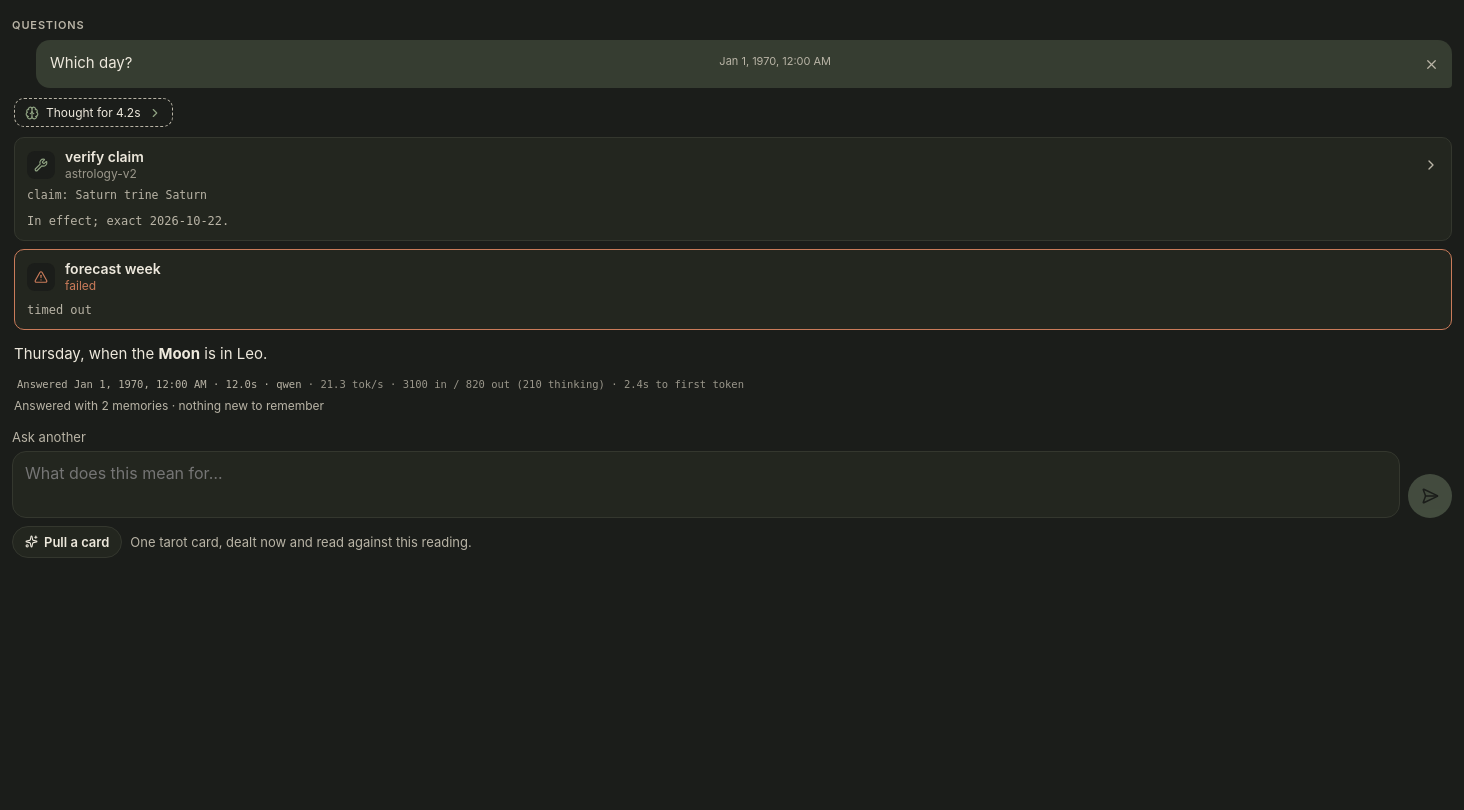
Test: FollowUps › shows the questions asked so far with their answers
Expected: the text "Which day?" is shown, [50,50,132,74]
Expected: the text "Moon" is shown, [158,344,200,363]
Click the button "Thought for 4.2s".
click(93, 112)  # box [14,98,172,127]
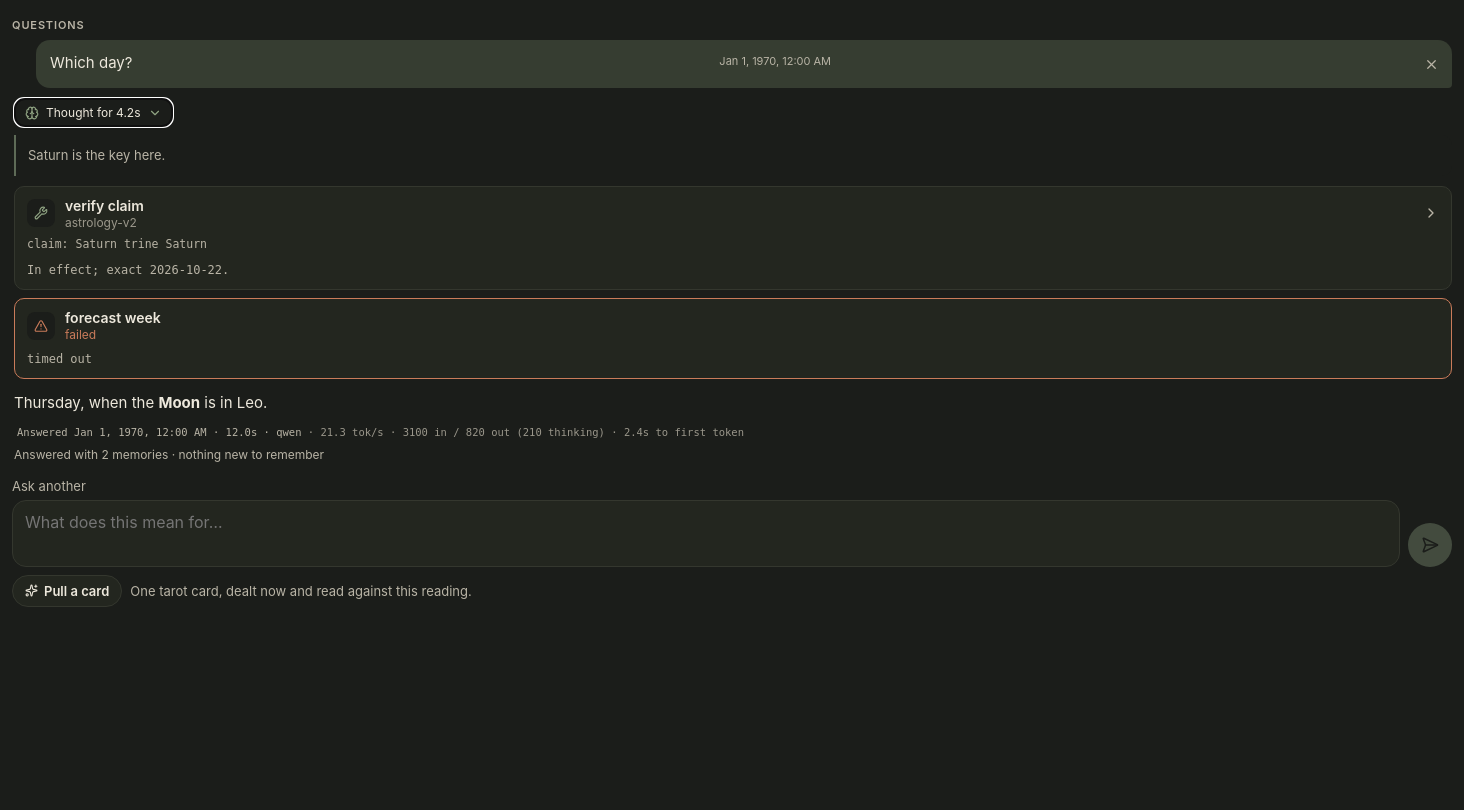
Expected: the text "· 21.3 tok/s · 3100 in / 820 out (210 thinking) · 2.4s to first token" is shown, [302,426,744,438]
Expected: the text "Saturn is the key here." is shown, [14,135,1452,176]
